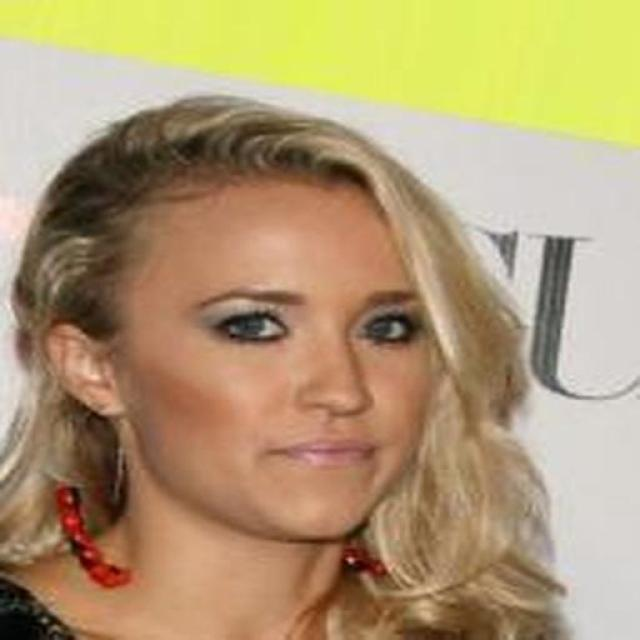bareface: (90, 172, 453, 556)
